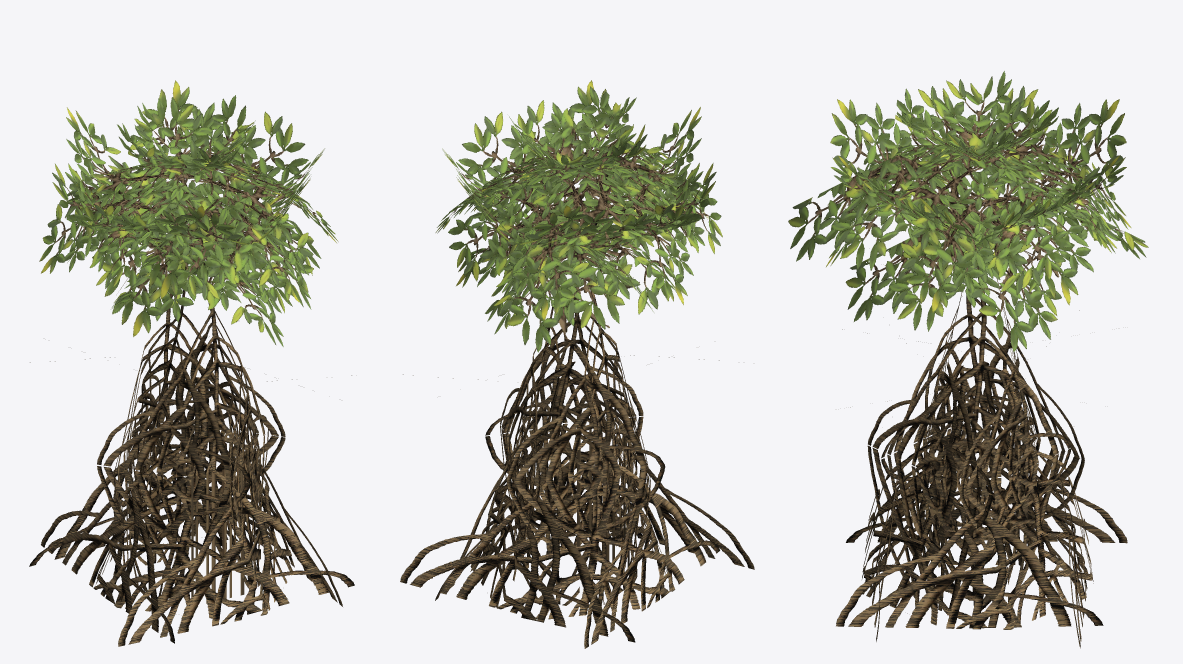
File: flora_tree_mangrove.glb
3 views of the same model, side by side, from view 1: azimuth 30°, elevation 25°; view 2: azimuth 150°, elevation 25°; view 3: azimuth 270°, elevation 25° (orthographic). The views are drawn at different scales.
Visible parts, largest first — view 1: flora_tree_mangrove_part0, flora_tree_mangrove_part1; view 2: flora_tree_mangrove_part0, flora_tree_mangrove_part1; view 3: flora_tree_mangrove_part1, flora_tree_mangrove_part0.
Boxes of the visible parts, x1,y1,x2,y2 form: flora_tree_mangrove_part0: (29, 262, 354, 646); flora_tree_mangrove_part1: (39, 80, 338, 346); flora_tree_mangrove_part0: (400, 277, 754, 648); flora_tree_mangrove_part1: (435, 80, 722, 352); flora_tree_mangrove_part1: (788, 71, 1148, 351); flora_tree_mangrove_part0: (836, 256, 1127, 648).
Bounding box in the file's own units: 11.63 × 18.07 × 11.78.
2 materials, 2 textured.
